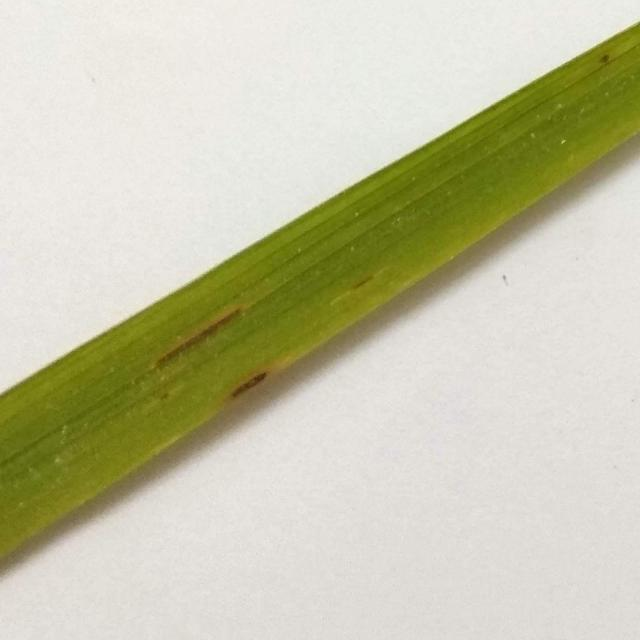Brown spot: (0, 11, 640, 576)
